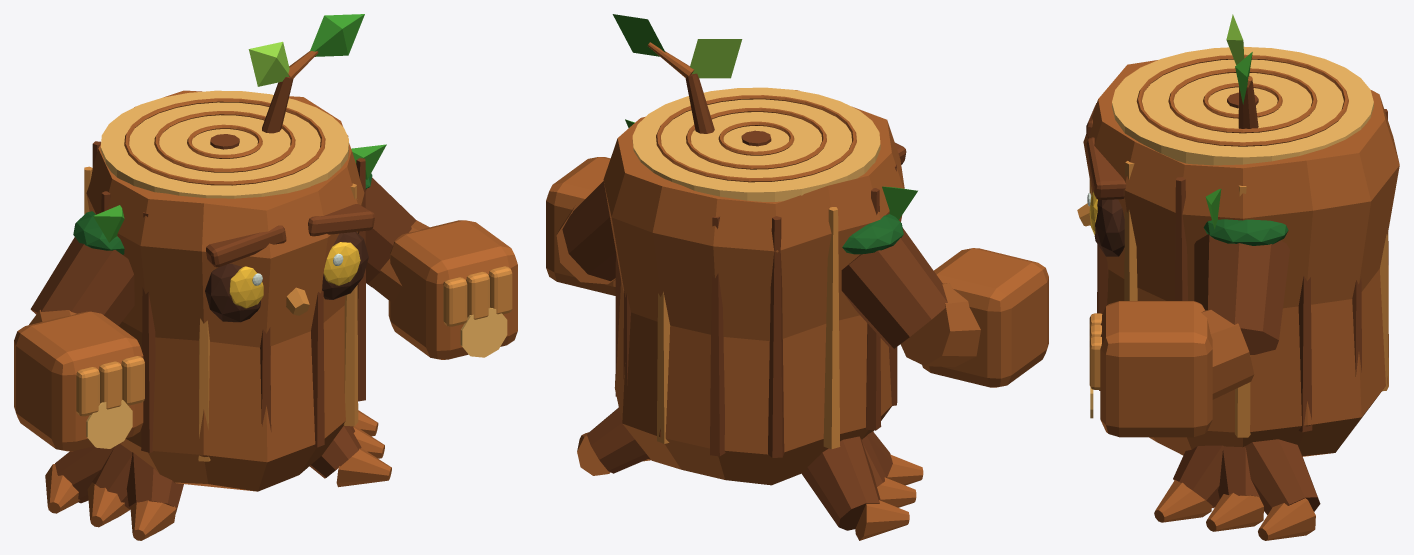
Rendered from stump.glb.
The picture shows the model from 3 angles, left to right: view 1: azimuth 30°, elevation 25°; view 2: azimuth 150°, elevation 25°; view 3: azimuth 270°, elevation 25°; orthographic projection. The views are drawn at different scales.
Visible parts, largest first — view 1: STUMP; view 2: STUMP; view 3: STUMP.
Part boxes in pixels (x1,y1,x2,y2): STUMP: (14, 14, 517, 540); STUMP: (546, 14, 1048, 540); STUMP: (1077, 14, 1399, 540).
Bounding box in the file's own units: 1.96 × 1.8 × 1.12.
1 material, 1 textured.
